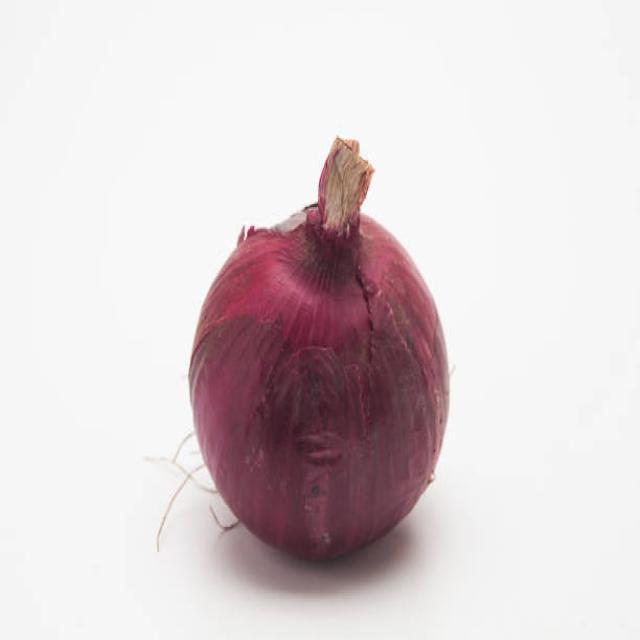onion: (183, 194, 450, 564)
